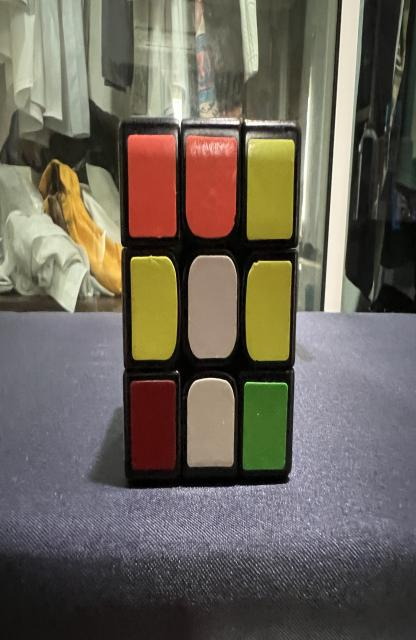Green: (243, 382, 288, 470)
Orange: (185, 135, 237, 238), (128, 135, 176, 238)
Red: (130, 380, 176, 470)
White: (188, 255, 237, 358), (187, 378, 235, 468)
Yellow: (130, 255, 178, 360), (246, 138, 295, 240), (245, 260, 292, 362)
